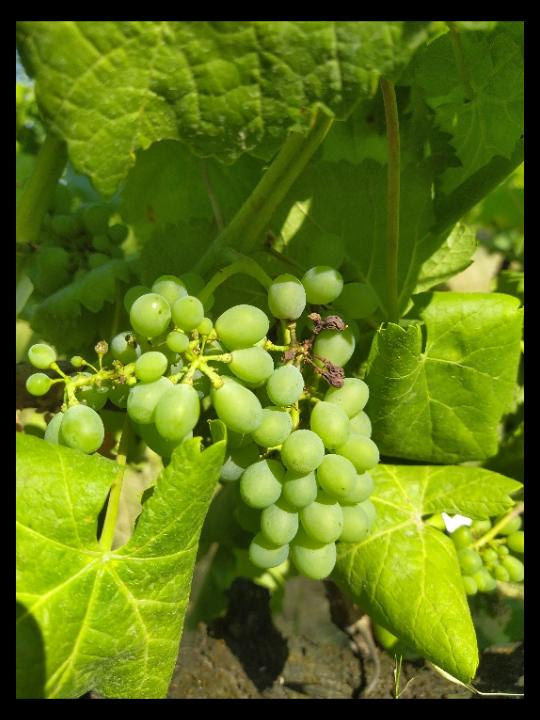grape: (25, 232, 389, 583), (448, 506, 522, 597)
